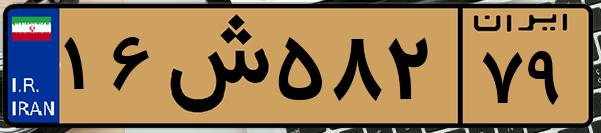1: (57, 26, 110, 100)
2: (385, 28, 445, 110)
5: (270, 28, 330, 110)
6: (110, 28, 158, 98)
7: (475, 38, 525, 113)
8: (330, 28, 385, 110)
9: (525, 38, 570, 115)
ش: (158, 12, 270, 120)
